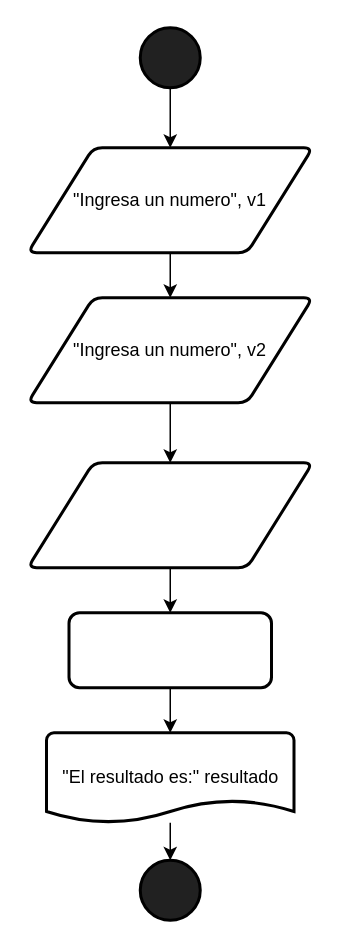
Some shapes in this 339 by 947 pixel diagram are drawn without their labels. Each missing label, with the centre of its shape:
"Ingresa un numero", v3: (x=170, y=514)
resultado= v1 + v2 + v3: (x=169, y=649)
